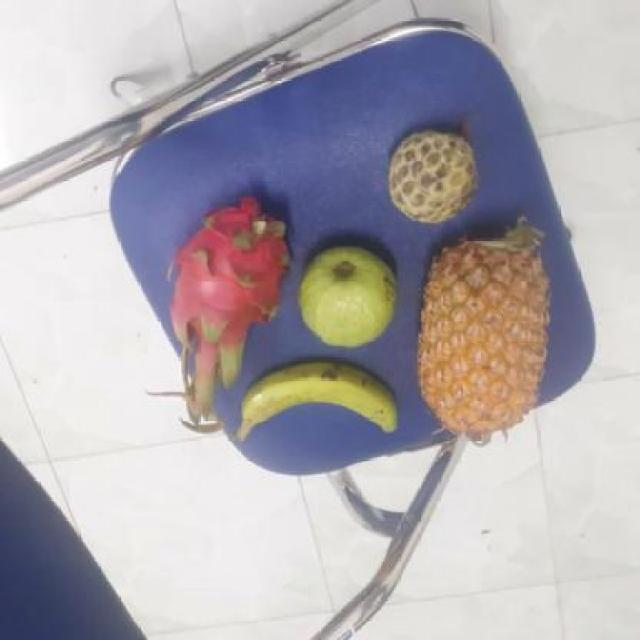banana: (235, 362, 403, 442)
dragon fruit: (170, 206, 296, 386)
pear: (300, 242, 405, 347)
pineapple: (418, 220, 554, 443)
sugar apple: (388, 129, 484, 222)
